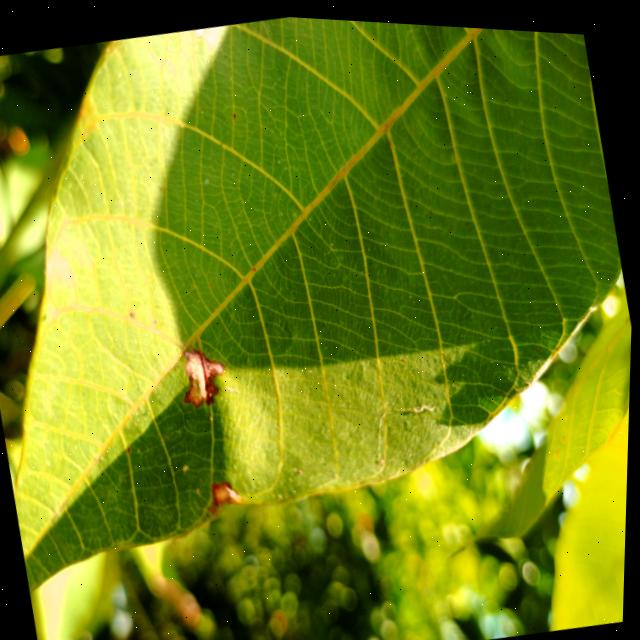Leaf-Blight: (176, 342, 232, 408), (212, 476, 247, 506)
